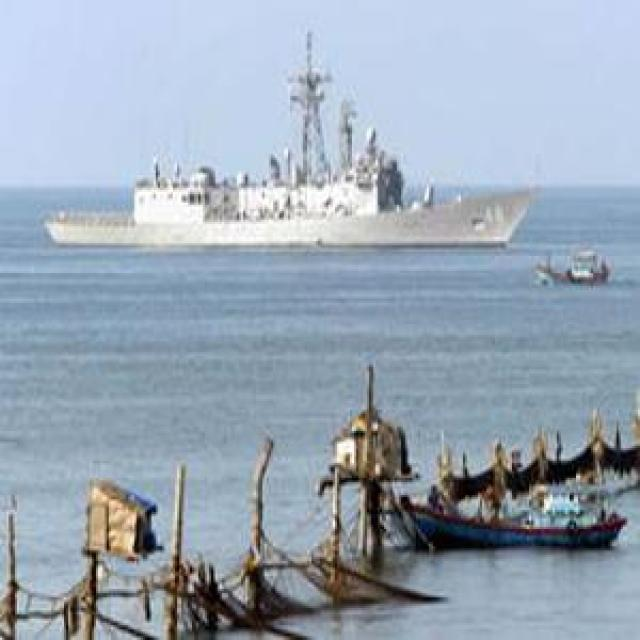navalvessels: (46, 24, 539, 252)
